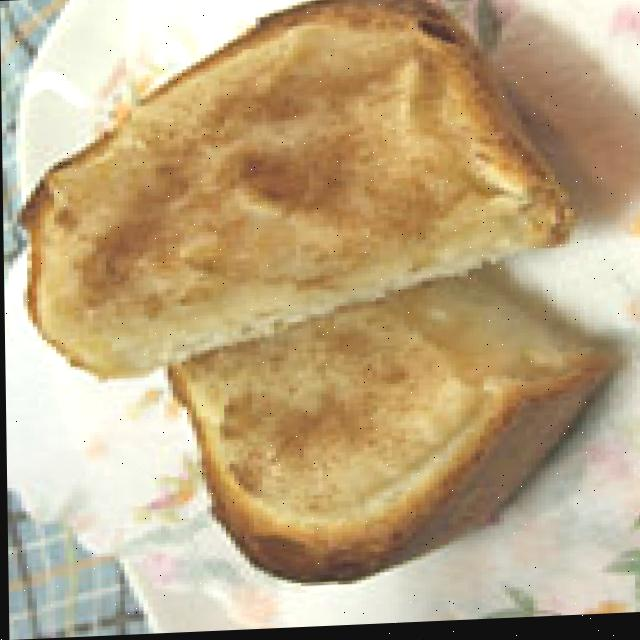面包点心: (37, 0, 605, 597)
